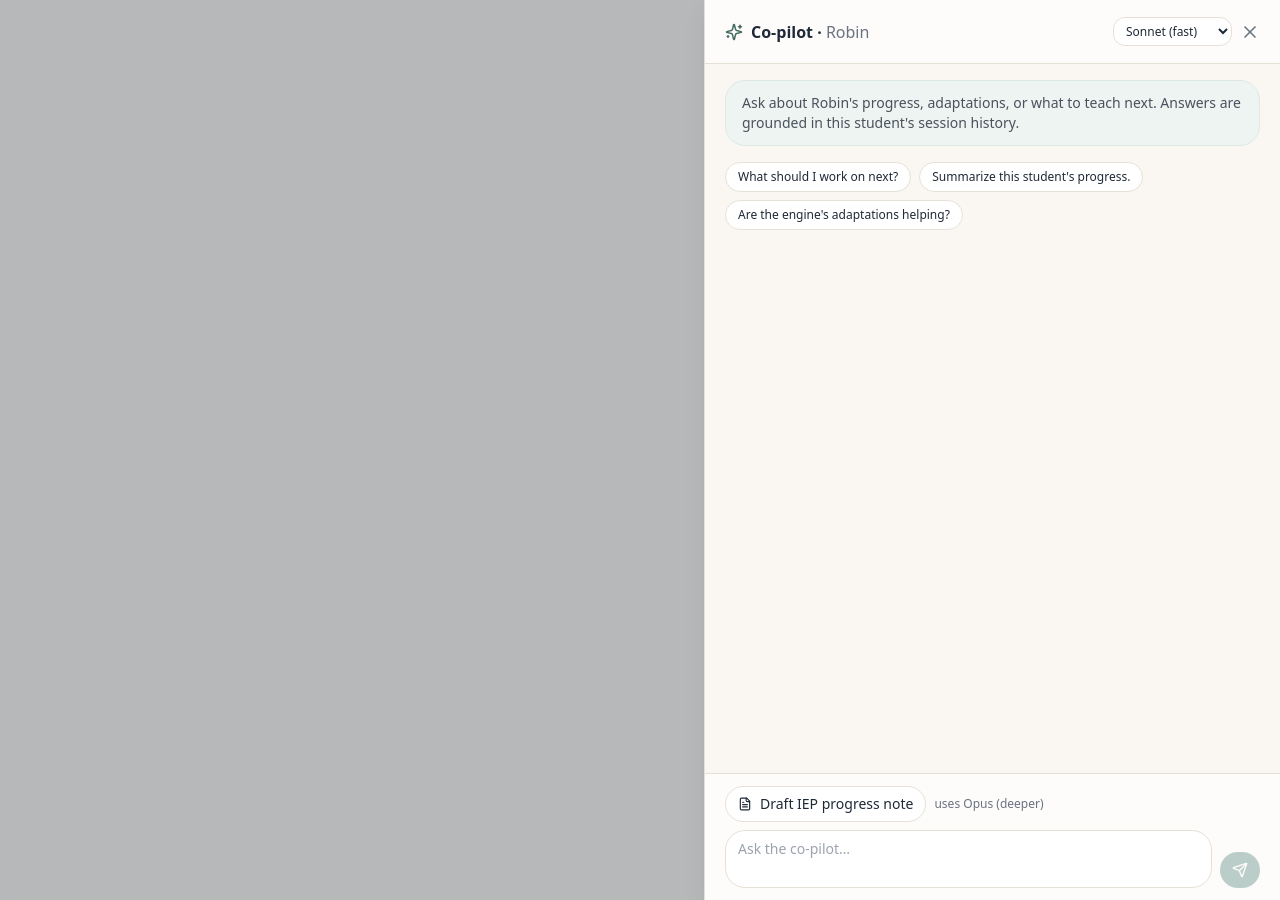
it: Copilot drawer › shows a clean error when an IEP draft fails validation
Click the button "Draft IEP progress note". click: (826, 804)
box: [725,786,926,822]
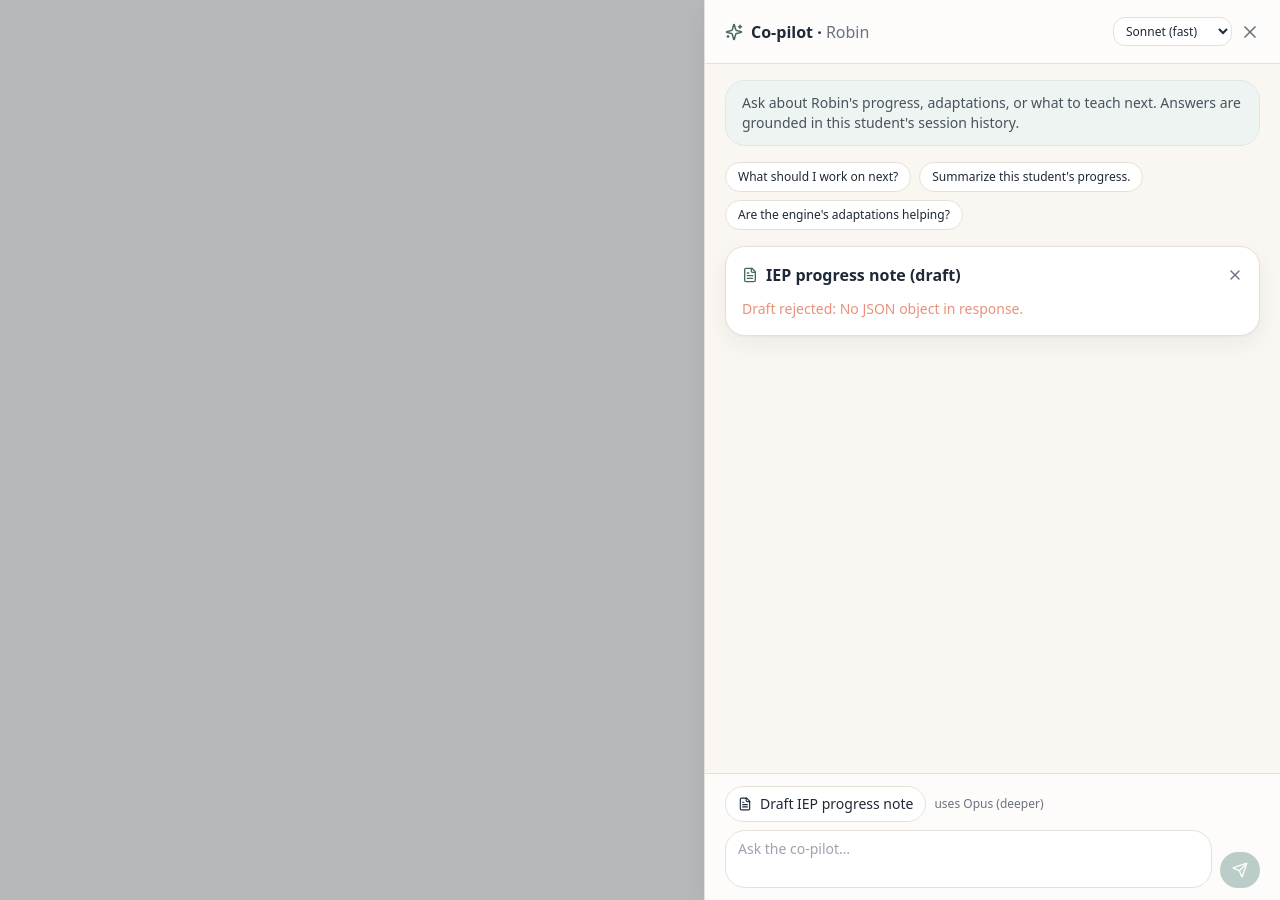
Now the text "Draft rejected: No JSON object in response." is shown, box [742,299,1023,318]
